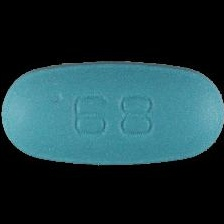55700-057: (0, 0, 224, 224)
